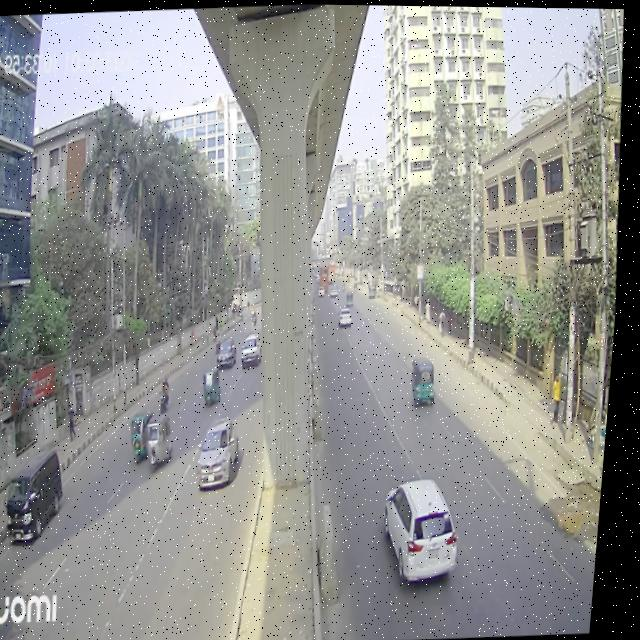cng: (411, 346, 448, 414), (153, 402, 185, 470), (135, 403, 161, 468), (205, 360, 230, 410)
